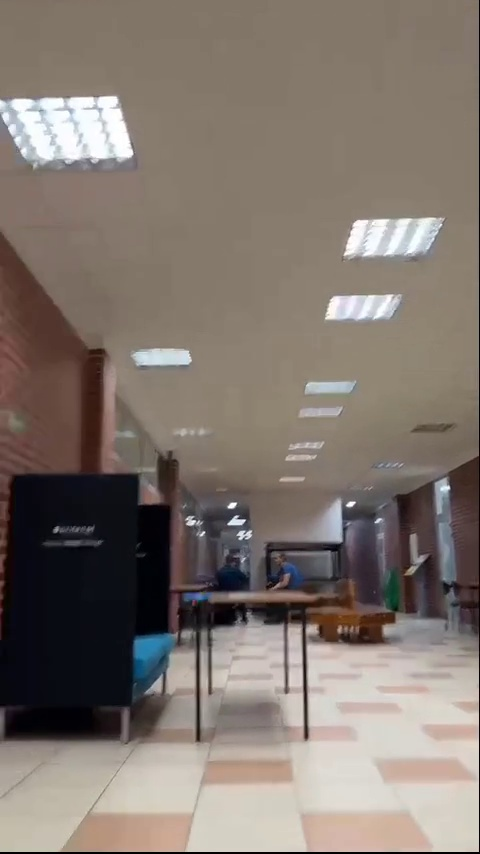drone: (181, 596, 211, 612)
no vest: (219, 556, 251, 593), (272, 551, 300, 592)
